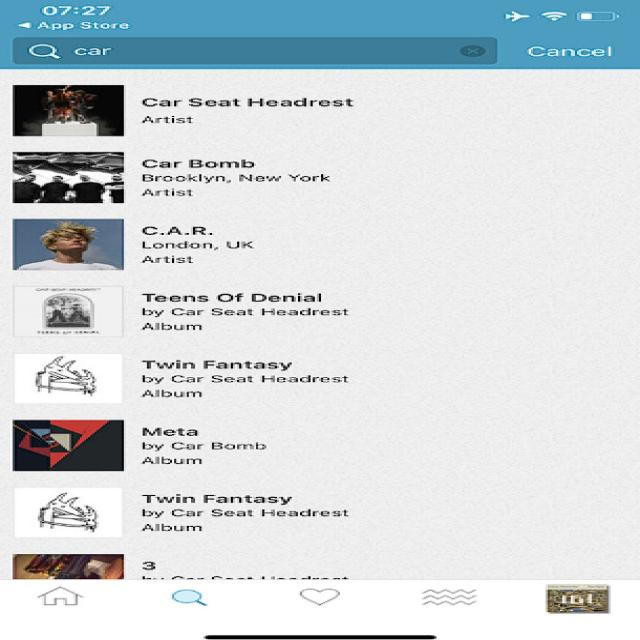icon button: (393, 583, 500, 620), (534, 583, 627, 621), (19, 583, 116, 617), (270, 584, 370, 614), (148, 583, 238, 616)
row: (7, 73, 622, 144), (9, 212, 632, 278), (13, 346, 629, 409), (4, 413, 629, 475), (13, 147, 622, 209), (9, 477, 626, 538), (13, 282, 629, 342)
